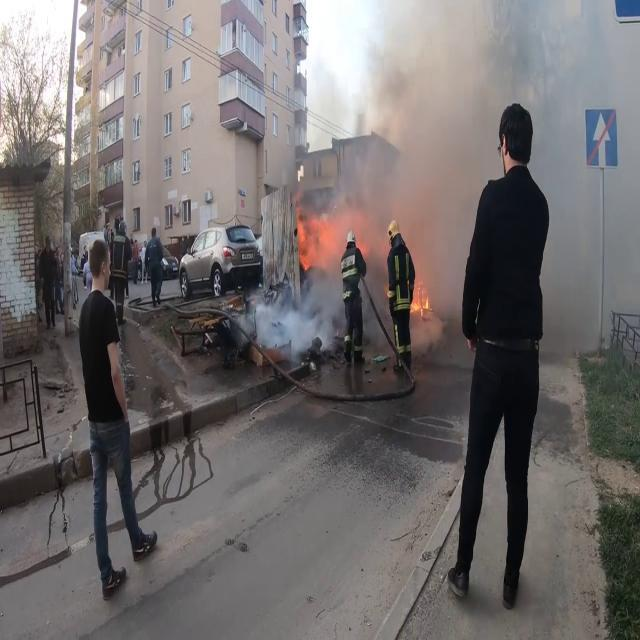Fire: (411, 273, 432, 319)
Smoke: (298, 0, 502, 292), (246, 268, 341, 368)
